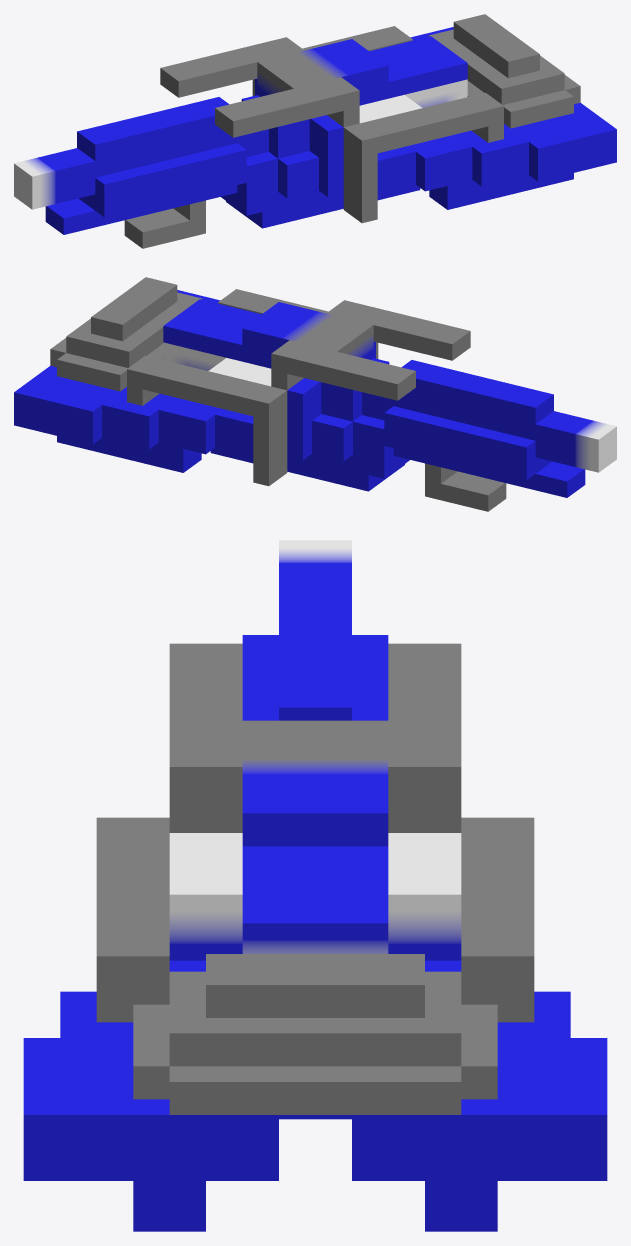
The model's file is Player_1.fbx.
The picture shows the model from 3 angles, top to bottom: view 1: azimuth 30°, elevation 25°; view 2: azimuth 150°, elevation 25°; view 3: azimuth 270°, elevation 25°; orthographic projection. The views are drawn at different scales.
Parts seen in each view (by area): view 1: Player_1; view 2: Player_1; view 3: Player_1.
Boxes of the visible parts, bbox=[...] form: Player_1: bbox=[14, 14, 616, 248]; Player_1: bbox=[14, 277, 616, 511]; Player_1: bbox=[23, 540, 607, 1231].
Bounding box in the file's own units: 33 × 8 × 16.
1 material, 1 textured.
